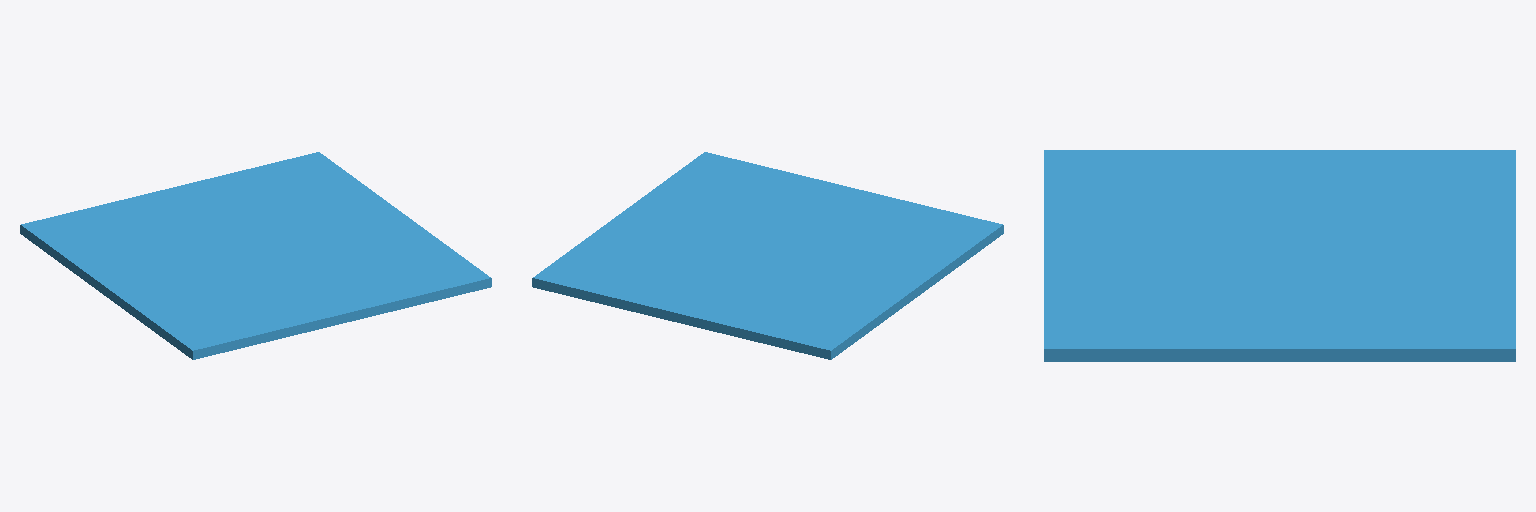
URDF robot description (urdf_table):
<?xml version="0.0" ?>
<robot name="urdf_table">

 <link name="world"/>
  <joint name="fixed" type="fixed">
    <parent link="world"/>
    <child link="baseLink"/>
    <origin xyz="0 0 0"/>
  </joint>

  <link name="baseLink">
    <inertial>
      <origin rpy="0 0 0" xyz="0 0 0"/>
       <mass value="0"/>
       <inertia ixx="0.1" ixy="0" ixz="0" iyy="0.1" iyz="0" izz="0.1"/>
    </inertial>
   
    <collision>
      <origin rpy="0 0 0" xyz="0 -2.4 0"/>
      <geometry>
        <box size="5 5 0.15"/>
      </geometry>
    </collision>   

    <visual>
      <origin rpy="0 0 0" xyz="0 -2.4 0"/>
      <geometry>
        <box size="5 5 0.15"/>
      </geometry>
    </visual> 
  </link>
</robot>

--- Facts derived from the render (not from the file) ---
The picture shows the robot from 3 angles, left to right: view 1: azimuth 30°, elevation 25°; view 2: azimuth 150°, elevation 25°; view 3: azimuth 270°, elevation 25°; orthographic projection.
Model urdf_table with 2 links and 1 joints (1 fixed), rooted at world, posed every joint at zero.
Links seen in each view (by area): view 1: baseLink; view 2: baseLink; view 3: baseLink.
Link boxes in pixels (box(x1,y1,x2,y2)): baseLink: box(20, 152, 491, 359); baseLink: box(532, 152, 1003, 359); baseLink: box(1044, 150, 1515, 361).
Bounding box of the posed robot: 5 × 5 × 0.15 m (x, y, z).
Geometry: primitives only (box / cylinder / sphere), no mesh files.